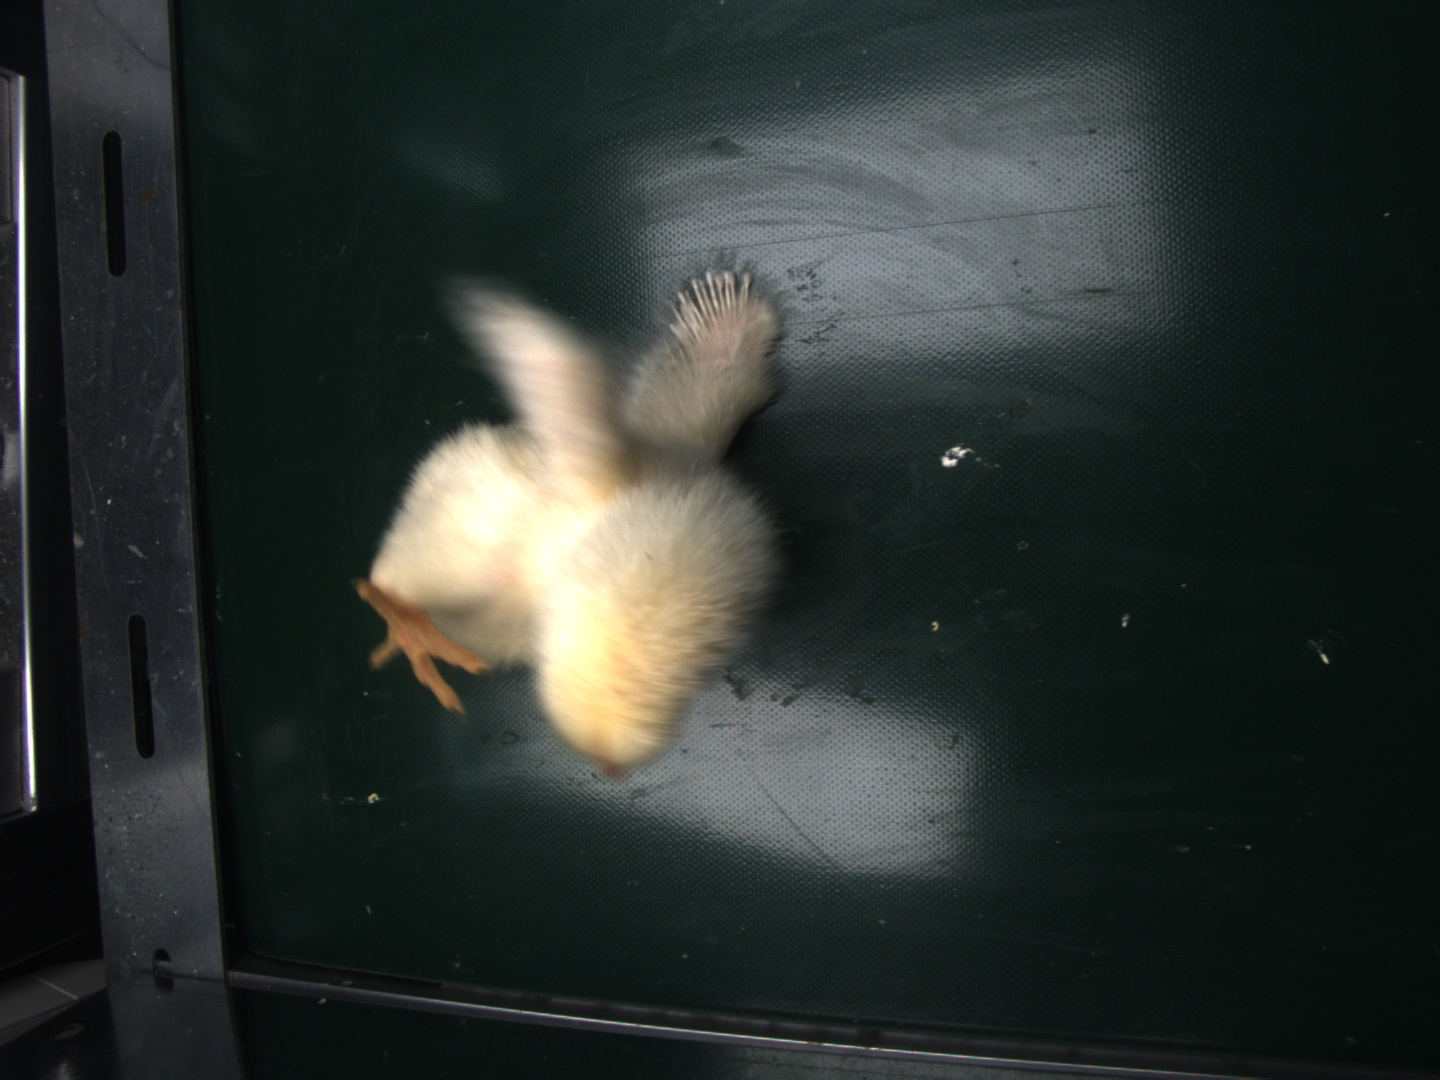male: (674, 263, 749, 337)
